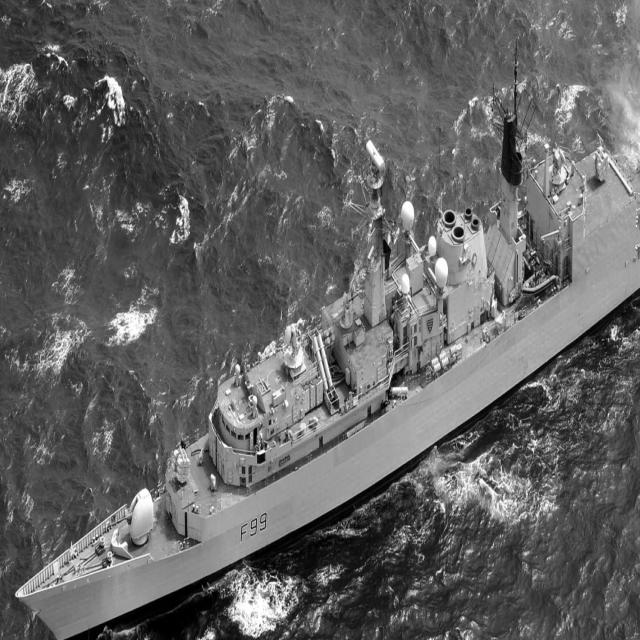Fragata: (1, 31, 512, 640)
